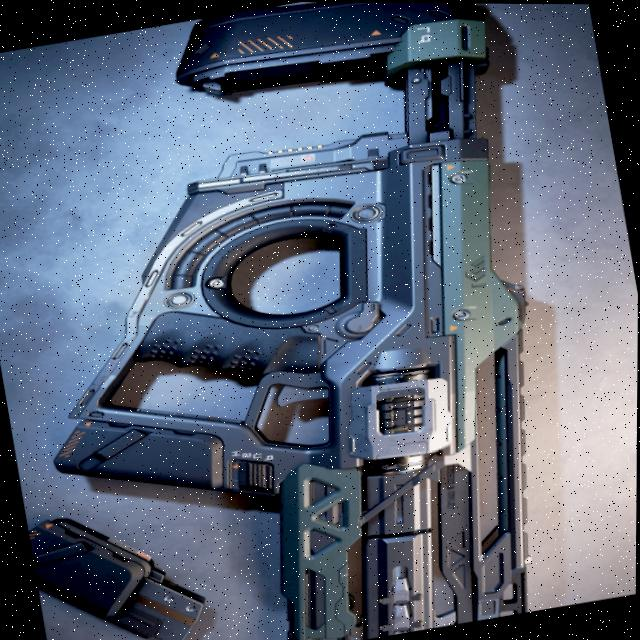firearm: (0, 0, 588, 640)
